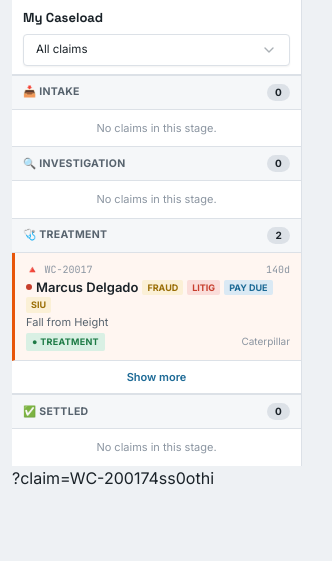
Test: Show more appends the next page the server hands back
Expected: the number of buttons with test id "queue-card" is 1, [12, 252, 301, 360]
Click the button with test id "queue-group-treatment-more": [156, 377] box [12, 360, 301, 394]
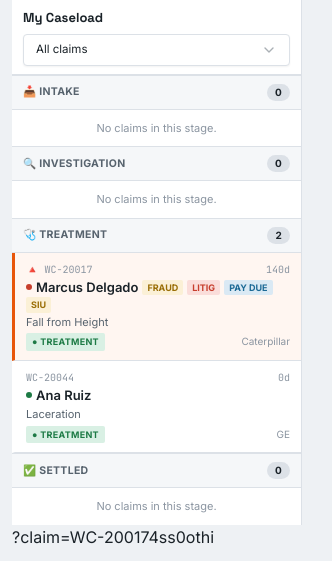
Expected: the number of buttons with test id "queue-card" is 2, [12, 252, 301, 360]; [12, 360, 301, 453]
Expected: the button with test id "queue-group-treatment-more" is gone
